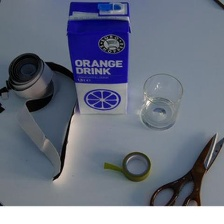carton: (67, 0, 133, 118)
glass: (137, 73, 185, 130)
